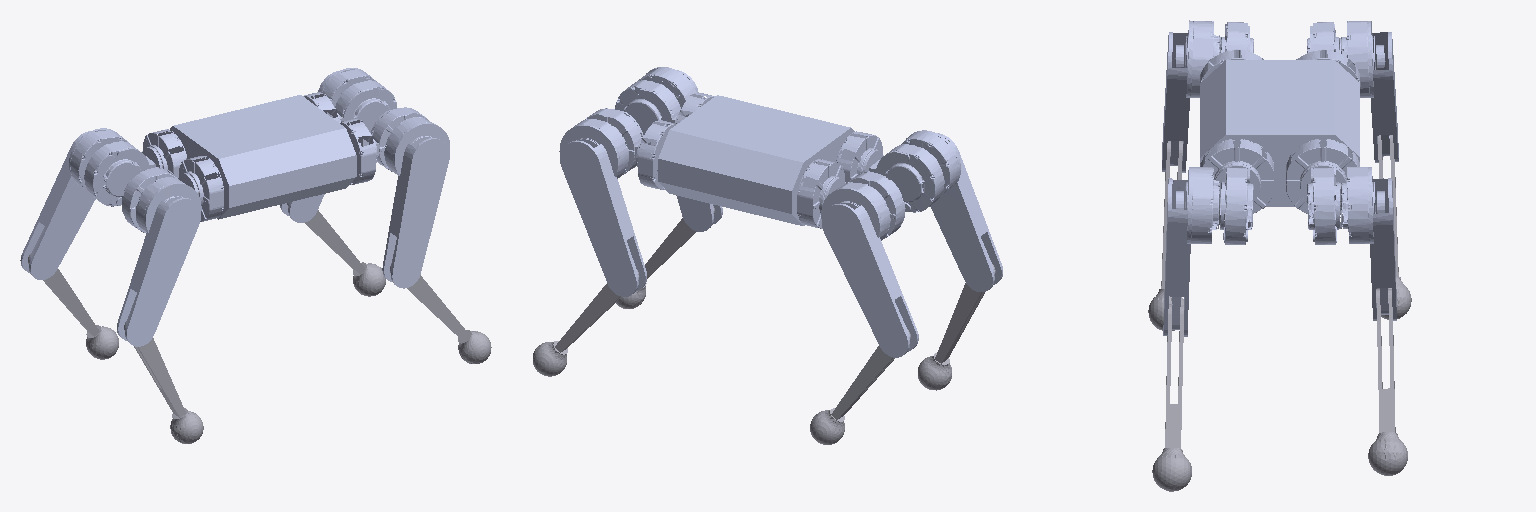
robot.urdf — robot:
<?xml version="1.0"?>
<robot name="robot">
  <link name="base">
    <inertial>
      <origin xyz="0 0 -0.05" rpy="0 0 0"/>
      <mass value="3.94944"/>
      <inertia ixx="0.01398933" ixy="0" ixz="0" iyy="0.01887338" iyz="0" izz="0.02697477"/>
    </inertial>
    <visual>
      <origin xyz="0 0 0" rpy="0 0 0"/>
      <geometry><mesh filename="meshes/base_collision.stl"/></geometry>
      <material name="base_color"><color rgba="0.79215686 0.81960784 0.93333333 1"/></material>
    </visual>
    <collision>
      <origin xyz="0 0 0" rpy="0 0 0"/>
      <geometry><mesh filename="meshes/base_collision.stl"/></geometry>
    </collision>
  </link>
  <link name="link_lr_hip_roll">
    <inertial>
      <origin xyz="-0.01668887 -0.00026267 0.00004309" rpy="0 0 0"/>
      <mass value="0.21570103"/>
      <inertia ixx="0.0002249" ixy="-0.00000437" ixz="-3.5e-7" iyy="0.00015962" iyz="5e-7" izz="0.00015144"/>
    </inertial>
    <visual>
      <origin xyz="0 0 0" rpy="0 0 0"/>
      <geometry><mesh filename="meshes/link_lr_hip_roll_collision.stl"/></geometry>
      <material name="link_lr_hip_roll_color"><color rgba="0.79215686 0.81960784 0.93333333 1"/></material>
    </visual>
    <collision>
      <origin xyz="0 0 0" rpy="0 0 0"/>
      <geometry><mesh filename="meshes/link_lr_hip_roll_collision.stl"/></geometry>
    </collision>
  </link>
  <link name="link_lr_hip_pitch">
    <inertial>
      <origin xyz="-0.01177076 0.05107505 -0.01877699" rpy="0 0 0"/>
      <mass value="0.580416"/>
      <inertia ixx="0.00192719" ixy="0.00024225" ixz="-0.00061999" iyy="0.00202271" iyz="0.00042404" izz="0.00119686"/>
    </inertial>
    <visual>
      <origin xyz="0 0 0" rpy="0 0 0"/>
      <geometry><mesh filename="meshes/link_lr_hip_pitch_collision.stl"/></geometry>
      <material name="link_lr_hip_pitch_color"><color rgba="0.79215686 0.81960784 0.93333333 1"/></material>
    </visual>
    <collision>
      <origin xyz="0 0 0" rpy="0 0 0"/>
      <geometry><mesh filename="meshes/link_lr_hip_pitch_collision.stl"/></geometry>
    </collision>
  </link>
  <link name="link_lr_knee">
    <inertial>
      <origin xyz="0.08409143 0.01016948 -0.12301378" rpy="0 0 0"/>
      <mass value="0.11758817"/>
      <inertia ixx="0.00039704" ixy="-0.00001087" ixz="0.0002564" iyy="0.00057103" iyz="0.00001589" izz="0.00019682"/>
    </inertial>
    <visual>
      <origin xyz="0 0 0" rpy="0 0 0"/>
      <geometry><mesh filename="meshes/link_lr_knee_collision.stl"/></geometry>
      <material name="link_lr_knee_color"><color rgba="0.7 0.7 0.75 1"/></material>
    </visual>
    <collision>
      <origin xyz="0 0 0" rpy="0 0 0"/>
      <geometry><mesh filename="meshes/link_lr_knee_collision.stl"/></geometry>
    </collision>
  </link>
  <link name="link_lf_hip_roll">
    <inertial>
      <origin xyz="0.01668887 -0.00043913 0.00004787" rpy="0 0 0"/>
      <mass value="0.21570103"/>
      <inertia ixx="0.00022487" ixy="0.00000373" ixz="2.9e-7" iyy="0.00015962" iyz="-2.4e-7" izz="0.0001514"/>
    </inertial>
    <visual>
      <origin xyz="0 0 0" rpy="0 0 0"/>
      <geometry><mesh filename="meshes/link_lf_hip_roll_collision.stl"/></geometry>
      <material name="link_lf_hip_roll_color"><color rgba="0.79215686 0.81960784 0.93333333 1"/></material>
    </visual>
    <collision>
      <origin xyz="0 0 0" rpy="0 0 0"/>
      <geometry><mesh filename="meshes/link_lf_hip_roll_collision.stl"/></geometry>
    </collision>
  </link>
  <link name="link_lf_hip_pitch">
    <inertial>
      <origin xyz="-0.00949258 0.05084539 -0.0205974" rpy="0 0 0"/>
      <mass value="0.580416"/>
      <inertia ixx="0.00205107" ixy="0.00018892" ixz="-0.00052955" iyy="0.00203298" iyz="0.00043681" izz="0.0010629"/>
    </inertial>
    <visual>
      <origin xyz="0 0 0" rpy="0 0 0"/>
      <geometry><mesh filename="meshes/link_lf_hip_pitch_collision.stl"/></geometry>
      <material name="link_lf_hip_pitch_color"><color rgba="0.79215686 0.81960784 0.93333333 1"/></material>
    </visual>
    <collision>
      <origin xyz="0 0 0" rpy="0 0 0"/>
      <geometry><mesh filename="meshes/link_lf_hip_pitch_collision.stl"/></geometry>
    </collision>
  </link>
  <link name="link_lf_knee">
    <inertial>
      <origin xyz="0.09275425 0.00831525 -0.11676764" rpy="0 0 0"/>
      <mass value="0.11758817"/>
      <inertia ixx="0.00035913" ixy="-0.00000772" ixz="0.00026829" iyy="0.00057142" iyz="0.00000971" izz="0.00023433"/>
    </inertial>
    <visual>
      <origin xyz="0 0 0" rpy="0 0 0"/>
      <geometry><mesh filename="meshes/link_lf_knee_collision.stl"/></geometry>
      <material name="link_lf_knee_color"><color rgba="0.7 0.7 0.75 1"/></material>
    </visual>
    <collision>
      <origin xyz="0 0 0" rpy="0 0 0"/>
      <geometry><mesh filename="meshes/link_lf_knee_collision.stl"/></geometry>
    </collision>
  </link>
  <link name="link_rf_hip_roll">
    <inertial>
      <origin xyz="0.01668887 0.00026284 0.00004787" rpy="0 0 0"/>
      <mass value="0.21570103"/>
      <inertia ixx="0.0002249" ixy="-0.00000437" ixz="2.9e-7" iyy="0.00015962" iyz="-4.5e-7" izz="0.00015143"/>
    </inertial>
    <visual>
      <origin xyz="0 0 0" rpy="0 0 0"/>
      <geometry><mesh filename="meshes/link_rf_hip_roll_collision.stl"/></geometry>
      <material name="link_rf_hip_roll_color"><color rgba="0.79215686 0.81960784 0.93333333 1"/></material>
    </visual>
    <collision>
      <origin xyz="0 0 0" rpy="0 0 0"/>
      <geometry><mesh filename="meshes/link_rf_hip_roll_collision.stl"/></geometry>
    </collision>
  </link>
  <link name="link_rf_hip_pitch">
    <inertial>
      <origin xyz="-0.00589948 -0.05088084 -0.02188067" rpy="0 0 0"/>
      <mass value="0.580416"/>
      <inertia ixx="0.00218991" ixy="-0.00011864" ixz="-0.00034697" iyy="0.00203012" iyz="-0.0004608" izz="0.00092365"/>
    </inertial>
    <visual>
      <origin xyz="0 0 0" rpy="0 0 0"/>
      <geometry><mesh filename="meshes/link_rf_hip_pitch_collision.stl"/></geometry>
      <material name="link_rf_hip_pitch_color"><color rgba="0.79215686 0.81960784 0.93333333 1"/></material>
    </visual>
    <collision>
      <origin xyz="0 0 0" rpy="0 0 0"/>
      <geometry><mesh filename="meshes/link_rf_hip_pitch_collision.stl"/></geometry>
    </collision>
  </link>
  <link name="link_rf_knee">
    <inertial>
      <origin xyz="0.09261403 -0.00831832 -0.11687868" rpy="0 0 0"/>
      <mass value="0.11758817"/>
      <inertia ixx="0.00036022" ixy="0.00000772" ixz="0.00026803" iyy="0.00057142" iyz="-0.00000974" izz="0.00023324"/>
    </inertial>
    <visual>
      <origin xyz="0 0 0" rpy="0 0 0"/>
      <geometry><mesh filename="meshes/link_rf_knee_collision.stl"/></geometry>
      <material name="link_rf_knee_color"><color rgba="0.7 0.7 0.75 1"/></material>
    </visual>
    <collision>
      <origin xyz="0 0 0" rpy="0 0 0"/>
      <geometry><mesh filename="meshes/link_rf_knee_collision.stl"/></geometry>
    </collision>
  </link>
  <link name="link_rr_hip_roll">
    <inertial>
      <origin xyz="-0.01668887 0.00043897 0.00004309" rpy="0 0 0"/>
      <mass value="0.21570103"/>
      <inertia ixx="0.00022487" ixy="0.00000373" ixz="-3.5e-7" iyy="0.00015962" iyz="1.8e-7" izz="0.00015141"/>
    </inertial>
    <visual>
      <origin xyz="0 0 0" rpy="0 0 0"/>
      <geometry><mesh filename="meshes/link_rr_hip_roll_collision.stl"/></geometry>
      <material name="link_rr_hip_roll_color"><color rgba="0.79215686 0.81960784 0.93333333 1"/></material>
    </visual>
    <collision>
      <origin xyz="0 0 0" rpy="0 0 0"/>
      <geometry><mesh filename="meshes/link_rr_hip_roll_collision.stl"/></geometry>
    </collision>
  </link>
  <link name="link_rr_hip_pitch">
    <inertial>
      <origin xyz="-0.00991178 -0.05111657 -0.01978284" rpy="0 0 0"/>
      <mass value="0.580416"/>
      <inertia ixx="0.00202759" ixy="-0.00020599" ixz="-0.00054538" iyy="0.00201974" iyz="-0.00044299" izz="0.00109627"/>
    </inertial>
    <visual>
      <origin xyz="0 0 0" rpy="0 0 0"/>
      <geometry><mesh filename="meshes/link_rr_hip_pitch_collision.stl"/></geometry>
      <material name="link_rr_hip_pitch_color"><color rgba="0.79215686 0.81960784 0.93333333 1"/></material>
    </visual>
    <collision>
      <origin xyz="0 0 0" rpy="0 0 0"/>
      <geometry><mesh filename="meshes/link_rr_hip_pitch_collision.stl"/></geometry>
    </collision>
  </link>
  <link name="link_rr_knee">
    <inertial>
      <origin xyz="0.06242619 -0.01067511 -0.13526342" rpy="0 0 0"/>
      <mass value="0.11758817"/>
      <inertia ixx="0.00047595" ixy="0.00000884" ixz="0.00020905" iyy="0.00057089" iyz="-0.00001918" izz="0.00011804"/>
    </inertial>
    <visual>
      <origin xyz="0 0 0" rpy="0 0 0"/>
      <geometry><mesh filename="meshes/link_rr_knee_collision.stl"/></geometry>
      <material name="link_rr_knee_color"><color rgba="0.7 0.7 0.75 1"/></material>
    </visual>
    <collision>
      <origin xyz="0 0 0" rpy="0 0 0"/>
      <geometry><mesh filename="meshes/link_rr_knee_collision.stl"/></geometry>
    </collision>
  </link>
  <joint name="joint_lr_1" type="revolute">
    <parent link="base"/>
    <child link="link_lr_hip_roll"/>
    <origin xyz="-0.1195 0.05375 -0.05" rpy="0 0 0"/>
    <axis xyz="-1 0 0"/>
    <limit lower="-3.14" upper="3.14" effort="10" velocity="3"/>
  </joint>
  <joint name="joint_lr_2" type="revolute">
    <parent link="link_lr_hip_roll"/>
    <child link="link_lr_hip_pitch"/>
    <origin xyz="-0.09525788 -0.00999149 -0.00041242" rpy="0 0 0"/>
    <axis xyz="0 0.99914919 0.04124191"/>
    <limit lower="-3.14" upper="3.14" effort="10" velocity="3"/>
  </joint>
  <joint name="joint_lr_3" type="revolute">
    <parent link="link_lr_hip_pitch"/>
    <child link="link_lr_knee"/>
    <origin xyz="-0.08799551 0.08321066 -0.15372383" rpy="0 0 0"/>
    <axis xyz="0 0.99914919 0.04124191"/>
    <limit lower="-3.14" upper="3.14" effort="10" velocity="3"/>
  </joint>
  <joint name="joint_lf_1" type="revolute">
    <parent link="base"/>
    <child link="link_lf_hip_roll"/>
    <origin xyz="0.1195 0.05375 -0.05" rpy="0 0 0"/>
    <axis xyz="1 0 0"/>
    <limit lower="-3.14" upper="3.14" effort="10" velocity="3"/>
  </joint>
  <joint name="joint_lf_2" type="revolute">
    <parent link="link_lf_hip_roll"/>
    <child link="link_lf_hip_pitch"/>
    <origin xyz="0.09525788 -0.00999619 -0.00027615" rpy="0 0 0"/>
    <axis xyz="0 0.99961862 0.02761531"/>
    <limit lower="-3.14" upper="3.14" effort="10" velocity="3"/>
  </joint>
  <joint name="joint_lf_3" type="revolute">
    <parent link="link_lf_hip_pitch"/>
    <child link="link_lf_knee"/>
    <origin xyz="-0.07088094 0.08133985 -0.16327266" rpy="0 0 0"/>
    <axis xyz="0 0.99961862 0.02761531"/>
    <limit lower="-3.14" upper="3.14" effort="10" velocity="3"/>
  </joint>
  <joint name="joint_rf_1" type="revolute">
    <parent link="base"/>
    <child link="link_rf_hip_roll"/>
    <origin xyz="0.1195 -0.05375 -0.05" rpy="0 0 0"/>
    <axis xyz="1 0 0"/>
    <limit lower="-3.14" upper="3.14" effort="10" velocity="3"/>
  </joint>
  <joint name="joint_rf_2" type="revolute">
    <parent link="link_rf_hip_roll"/>
    <child link="link_rf_hip_pitch"/>
    <origin xyz="0.09525788 0.00999619 -0.00027615" rpy="0 0 0"/>
    <axis xyz="0 -0.99961862 0.02761531"/>
    <limit lower="-3.14" upper="3.14" effort="10" velocity="3"/>
  </joint>
  <joint name="joint_rf_3" type="revolute">
    <parent link="link_rf_hip_pitch"/>
    <child link="link_rf_knee"/>
    <origin xyz="-0.04436432 -0.08158812 -0.17225976" rpy="0 0 0"/>
    <axis xyz="0 -0.99961862 0.02761531"/>
    <limit lower="-3.14" upper="3.14" effort="10" velocity="3"/>
  </joint>
  <joint name="joint_rr_1" type="revolute">
    <parent link="base"/>
    <child link="link_rr_hip_roll"/>
    <origin xyz="-0.1195 -0.05375 -0.05" rpy="0 0 0"/>
    <axis xyz="-1 0 0"/>
    <limit lower="-3.14" upper="3.14" effort="10" velocity="3"/>
  </joint>
  <joint name="joint_rr_2" type="revolute">
    <parent link="link_rr_hip_roll"/>
    <child link="link_rr_hip_pitch"/>
    <origin xyz="-0.09525788 0.00999149 -0.00041242" rpy="0 0 0"/>
    <axis xyz="0 -0.99914919 0.04124191"/>
    <limit lower="-3.14" upper="3.14" effort="10" velocity="3"/>
  </joint>
  <joint name="joint_rr_3" type="revolute">
    <parent link="link_rr_hip_pitch"/>
    <child link="link_rr_knee"/>
    <origin xyz="-0.07447201 -0.08349304 -0.16056486" rpy="0 0 0"/>
    <axis xyz="0 -0.99914919 0.04124191"/>
    <limit lower="-3.14" upper="3.14" effort="10" velocity="3"/>
  </joint>
</robot>

--- Render facts (derived) ---
Views: 3 orthographic renders of the robot side by side, from view 1: azimuth 30°, elevation 25°; view 2: azimuth 150°, elevation 25°; view 3: azimuth 270°, elevation 25°.
Robot: robot — 13 links, 12 joints (12 revolute); root link base; default pose: every joint at zero.
Links seen in each view (by area): view 1: base, link_rr_hip_pitch, link_rf_hip_pitch, link_lr_hip_pitch, link_lf_hip_pitch, link_rr_knee, link_rf_knee, link_lr_knee, link_rr_hip_roll, link_lf_knee, link_lr_hip_roll, link_rf_hip_roll (+1 smaller); view 2: base, link_lr_hip_pitch, link_lf_hip_pitch, link_rr_hip_pitch, link_rf_hip_pitch, link_rr_knee, link_lr_knee, link_lf_knee, link_lr_hip_roll, link_rr_hip_roll, link_lf_hip_roll, link_rf_knee (+1 smaller); view 3: base, link_rf_hip_pitch, link_lf_hip_pitch, link_rr_hip_pitch, link_lr_hip_pitch, link_rf_knee, link_lf_knee, link_lf_hip_roll, link_rf_hip_roll, link_rr_knee, link_lr_knee, link_lr_hip_roll (+1 smaller).
Boxes of the visible links, x1,y1,x2,y2 form: base: (170,95,356,219); link_rr_hip_pitch: (117,168,201,346); link_rf_hip_pitch: (372,107,449,288); link_lr_hip_pitch: (20,128,140,279); link_lf_hip_pitch: (280,68,396,222); link_rr_knee: (124,321,203,443); link_rf_knee: (390,263,491,363); link_lr_knee: (28,254,118,359); link_rr_hip_roll: (144,156,223,221); link_lf_knee: (287,203,385,296); link_lr_hip_roll: (116,129,186,205); link_rf_hip_roll: (339,108,399,184); base: (658,95,854,225); link_lr_hip_pitch: (821,172,918,357); link_lf_hip_pitch: (559,108,646,296); link_rr_hip_pitch: (885,130,1002,291); link_rf_hip_pitch: (615,67,722,231); link_rr_knee: (918,264,995,390); link_lr_knee: (810,329,910,444); link_lf_knee: (533,270,639,376); link_lr_hip_roll: (797,159,880,228); link_rr_hip_roll: (836,131,910,211); link_lf_hip_roll: (612,109,676,189); link_rf_knee: (616,206,714,308); base: (1200,60,1359,206); link_rf_hip_pitch: (1163,167,1253,336); link_lf_hip_pitch: (1307,167,1396,320); link_rr_hip_pitch: (1162,20,1253,172); link_lr_hip_pitch: (1307,21,1398,162); link_rf_knee: (1152,304,1191,491); link_lf_knee: (1368,289,1407,475); link_lf_hip_roll: (1286,139,1359,241); link_rf_hip_roll: (1200,139,1273,241); link_rr_knee: (1148,141,1183,330); link_lr_knee: (1377,135,1411,319); link_lr_hip_roll: (1296,26,1360,86).
Bounding box of the posed robot: 0.6465 × 0.3287 × 0.4171 m (x, y, z).
13 mesh visuals loaded from 13 distinct referenced files (13 binary STL).
